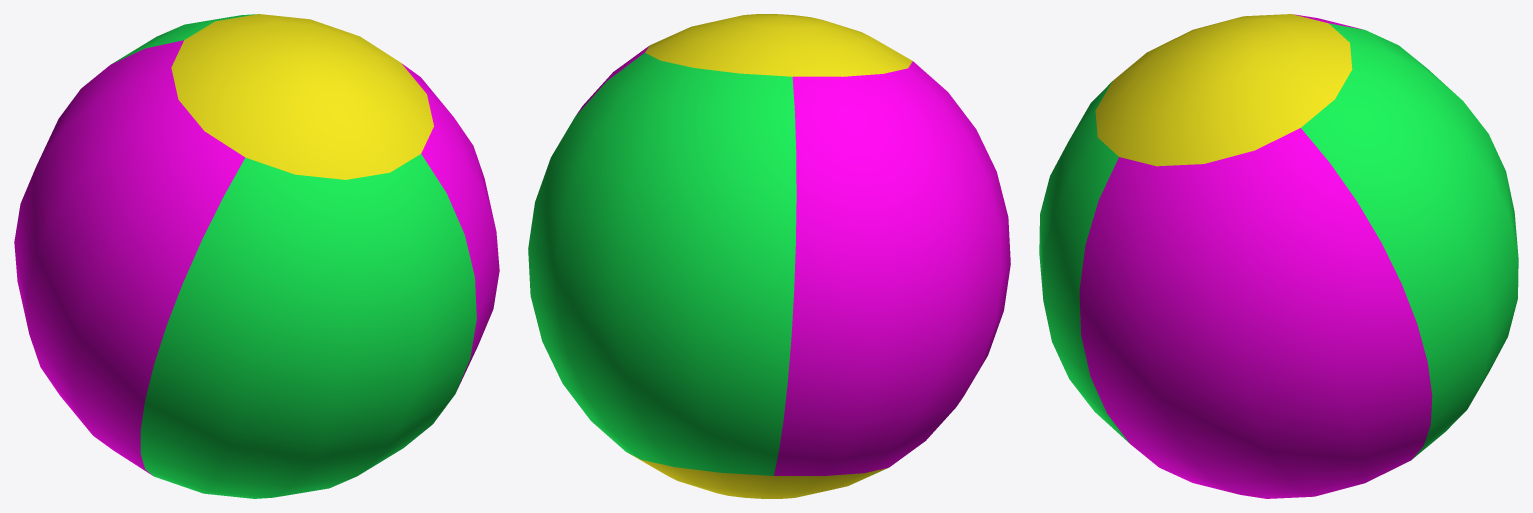
Rendered from ETC0610050.fbx.
The picture shows the model from 3 angles, left to right: view 1: azimuth 30°, elevation 25°; view 2: azimuth 150°, elevation 25°; view 3: azimuth 270°, elevation 25°; orthographic projection.
Visible parts, largest first — view 1: smETC0610050; view 2: smETC0610050; view 3: smETC0610050.
Part boxes in pixels (x1,y1,x2,y2): smETC0610050: (14,14,499,498); smETC0610050: (528,14,1010,498); smETC0610050: (1039,14,1518,498).
Size of the model in its own units: 44.6 by 45.27 by 44.88.
Materials: 1 (1 with a texture image).
